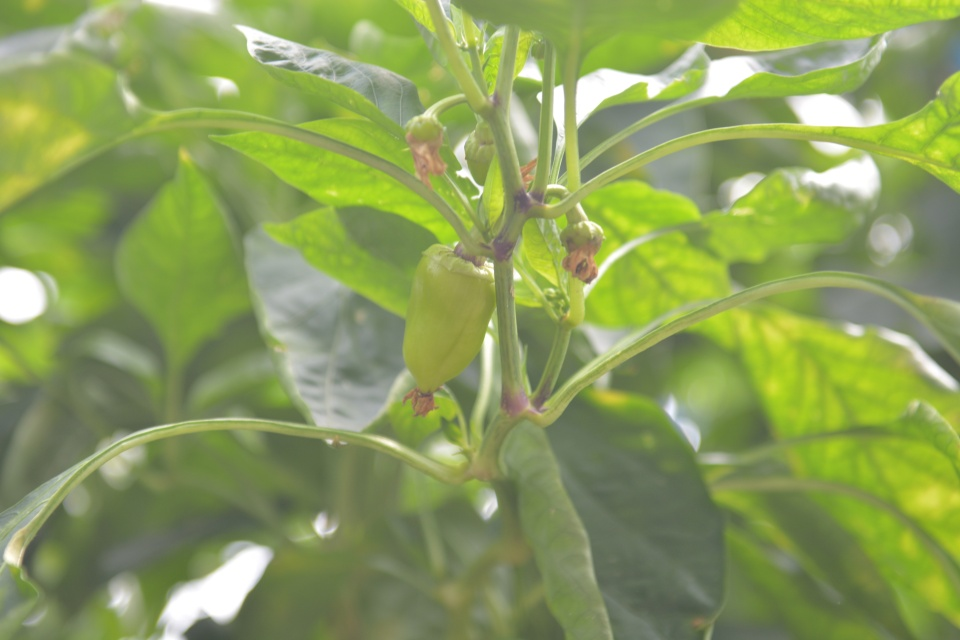immature: (399, 241, 496, 419)
